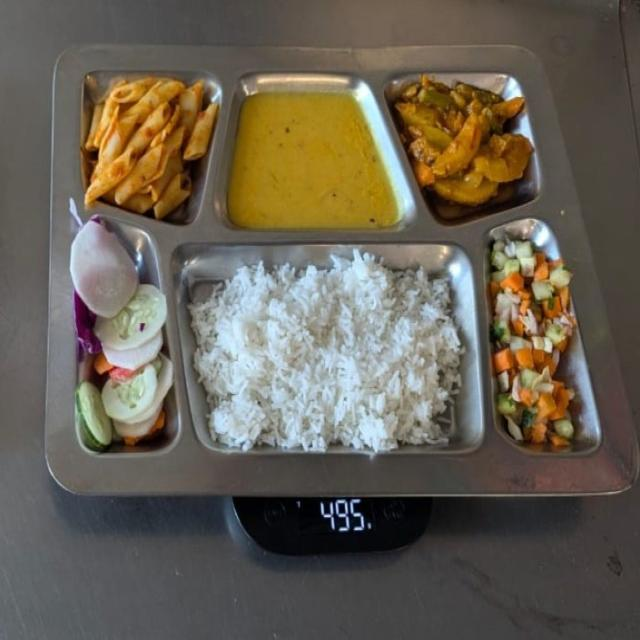Dal: (231, 88, 396, 232)
Pasta: (79, 75, 213, 216)
Salad: (72, 216, 177, 448), (492, 228, 578, 451)
Veg Jhalfrezi: (397, 75, 537, 207)
White Rice: (190, 251, 467, 460)
